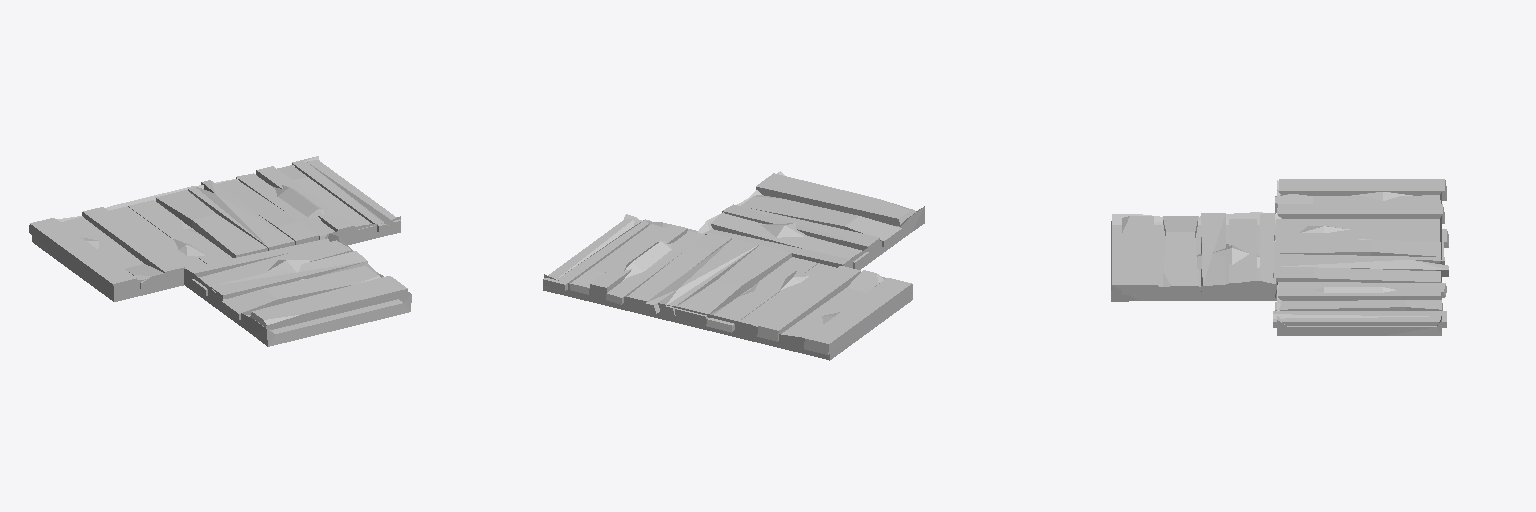
Rendered from aWoodRoad1.obj.
The picture shows the model from 3 angles: view 1: azimuth 30°, elevation 25°; view 2: azimuth 150°, elevation 25°; view 3: azimuth 270°, elevation 25°; orthographic projection.
Visible parts, largest first — view 1: Road_wood_2_Mesh.057; view 2: Road_wood_2_Mesh.057; view 3: Road_wood_2_Mesh.057.
Part boxes in pixels (left/top/right/bottom): Road_wood_2_Mesh.057: left=29, top=156, right=411, bottom=346; Road_wood_2_Mesh.057: left=543, top=171, right=924, bottom=360; Road_wood_2_Mesh.057: left=1111, top=179, right=1448, bottom=335.
Size of the model in its own units: 6.01 by 0.46 by 6.12.